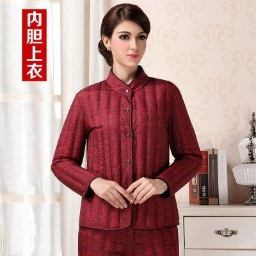face: (92, 1, 157, 69)
